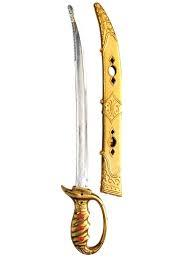sword: (40, 0, 166, 253)
